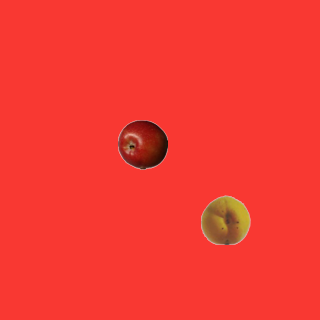Apple Braeburn: (117, 119, 167, 169)
Peach 2: (200, 194, 250, 244)
